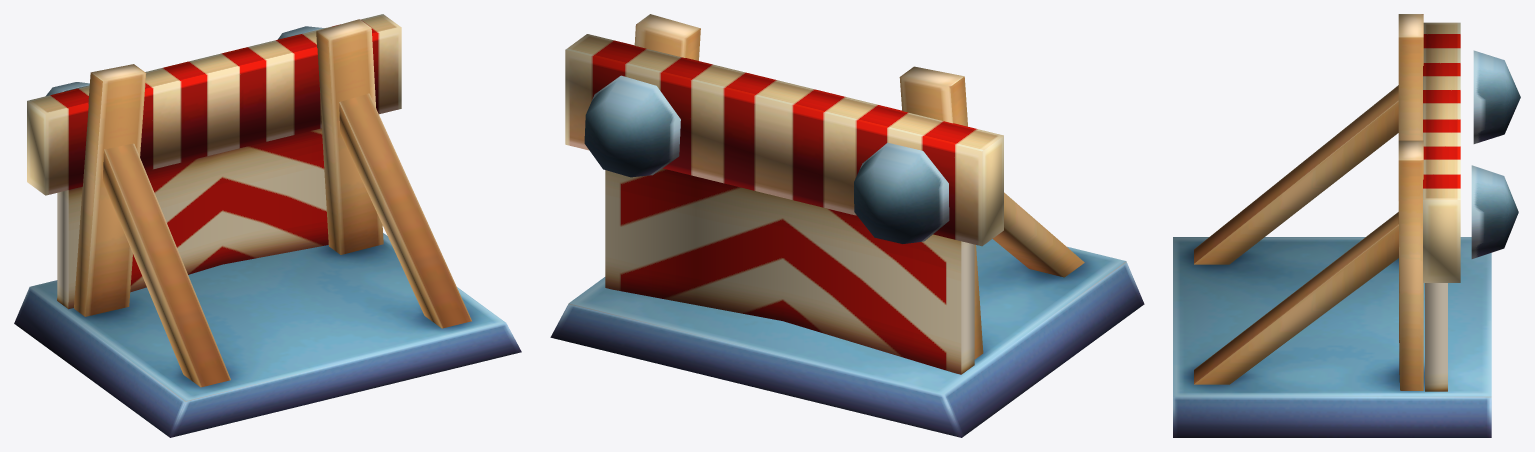
Rendered from BlockerJump.fbx.
The picture shows the model from 3 angles, left to right: view 1: azimuth 30°, elevation 25°; view 2: azimuth 150°, elevation 25°; view 3: azimuth 270°, elevation 25°; orthographic projection. The views are drawn at different scales.
Parts seen in each view (by area): view 1: Object_2; view 2: Object_2; view 3: Object_2.
Part boxes in pixels (bbox=[...]): Object_2: bbox=[14, 14, 521, 437]; Object_2: bbox=[550, 14, 1144, 437]; Object_2: bbox=[1173, 14, 1520, 437].
Bounding box in the file's own units: 1883 × 1339 × 1561.
1 material, 1 textured.
